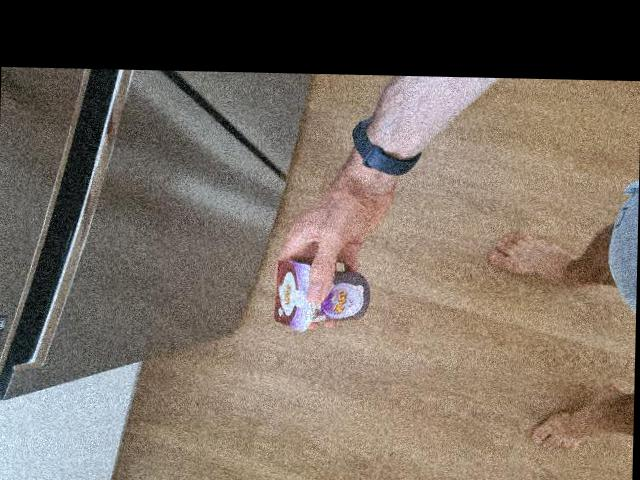milky: (272, 255, 374, 332)
